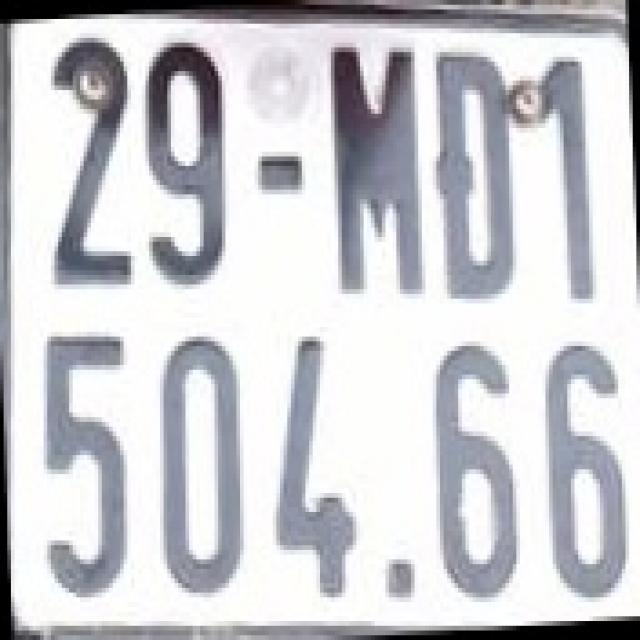0: (153, 327, 251, 593)
1: (534, 52, 604, 299)
2: (44, 28, 138, 290)
4: (269, 327, 360, 597)
5: (36, 322, 131, 598)
6: (426, 337, 524, 597), (538, 337, 633, 597)
9: (142, 33, 236, 289)
D: (428, 31, 510, 316)
M: (320, 38, 429, 294)
